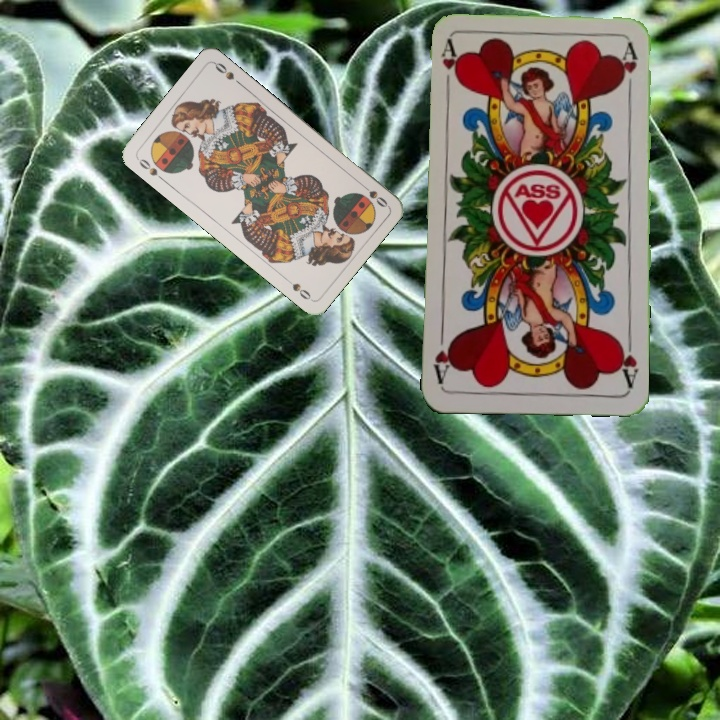HA: (614, 331, 641, 390), (437, 38, 460, 97)
SO: (356, 179, 390, 210), (133, 154, 167, 184)
